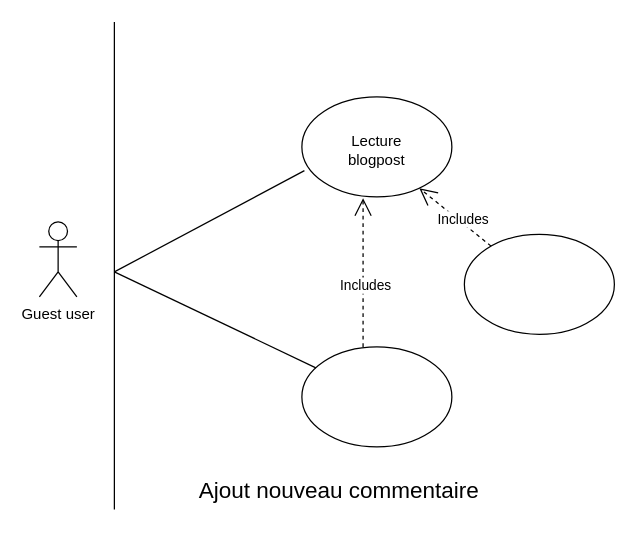
Some shapes in this 636 by 533 pixel diagram are drawn without their labels. The centre of each missing label's shape, as x and y in pixels:
Lecture commentaire publié: the point at 538,283
Rédaction nouveau commentaire: the point at 376,396
